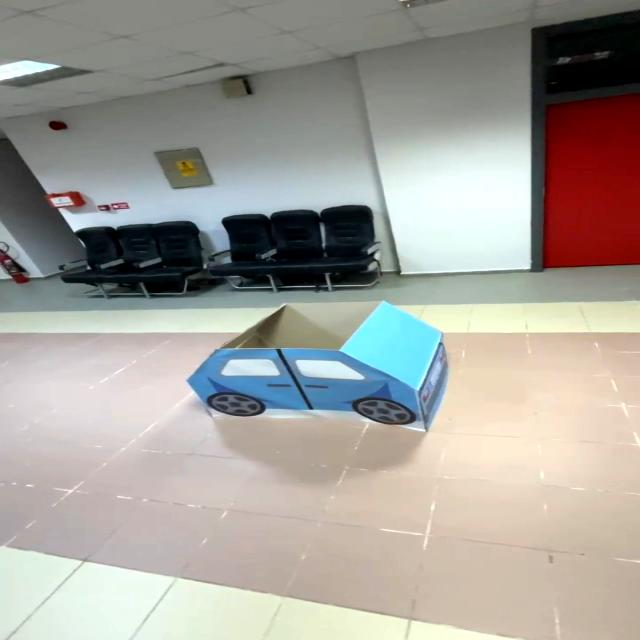blue_car: (144, 291, 484, 463)
